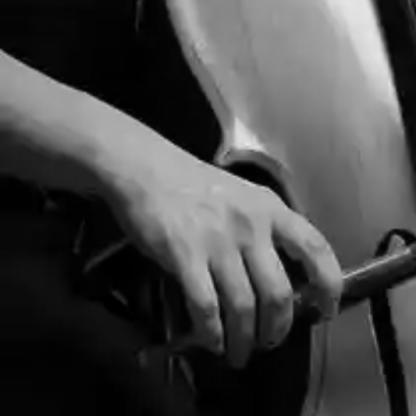good: (128, 169, 350, 364)
